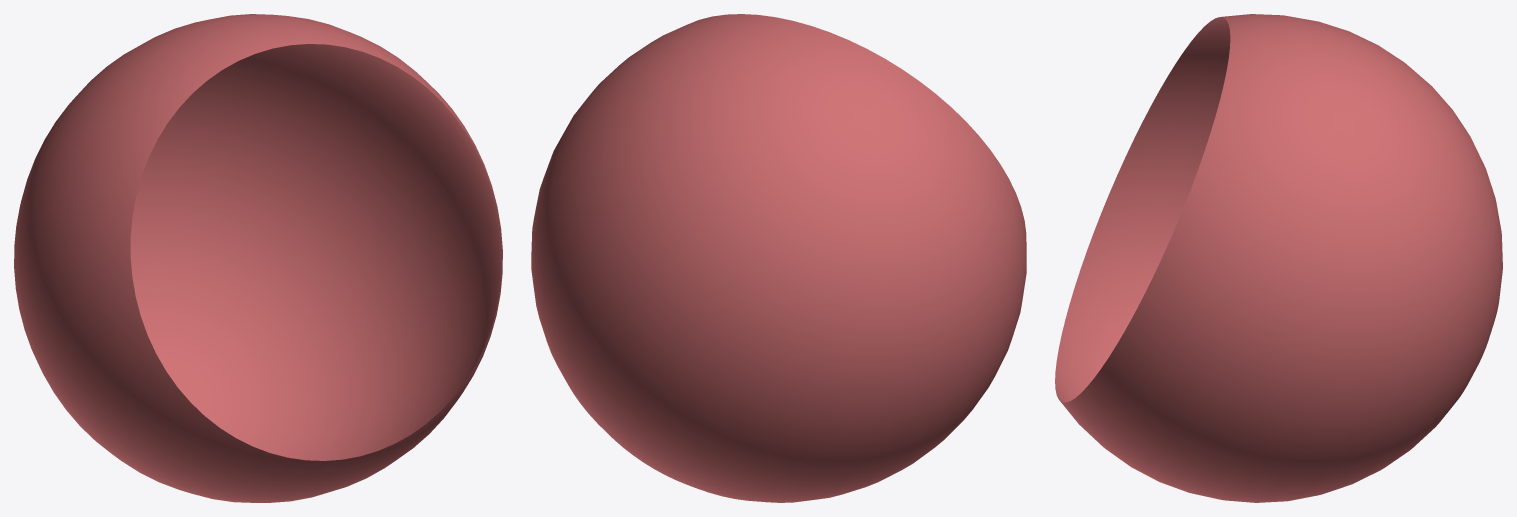
Rendered from bubu-round-tail.glb.
The picture shows the model from 3 angles, left to right: view 1: azimuth 30°, elevation 25°; view 2: azimuth 150°, elevation 25°; view 3: azimuth 270°, elevation 25°; orthographic projection.
Parts seen in each view (by area): view 1: Bubu_round-tail; view 2: Bubu_round-tail; view 3: Bubu_round-tail.
Boxes of the visible parts, x1=… form: Bubu_round-tail: x1=14, y1=14, x2=502, y2=502; Bubu_round-tail: x1=531, y1=14, x2=1026, y2=502; Bubu_round-tail: x1=1055, y1=14, x2=1502, y2=502.
Size of the model in its own units: 0.2999 by 0.2997 by 0.2747.
